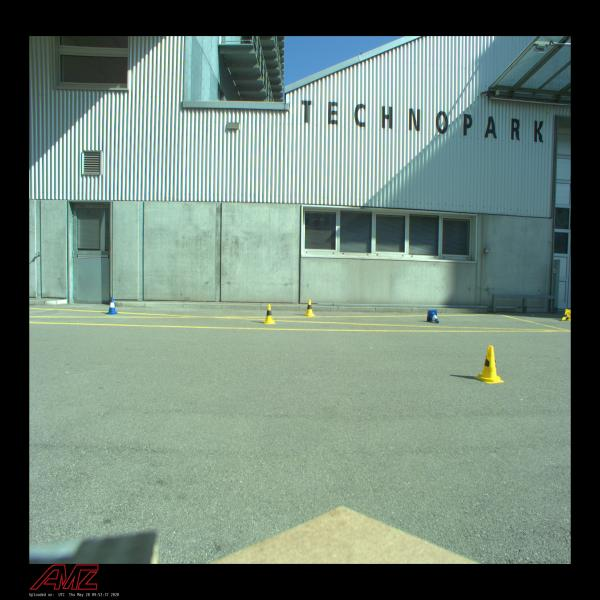blue_cone: (105, 297, 119, 315), (427, 309, 439, 324)
yellow_cone: (474, 345, 504, 384), (262, 304, 275, 325), (304, 300, 316, 316), (561, 309, 570, 321)
